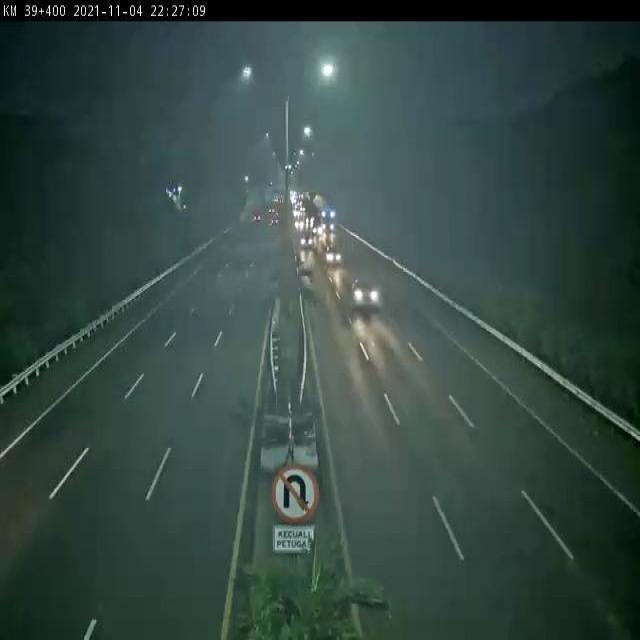car: (352, 276, 380, 311), (327, 246, 344, 266)
